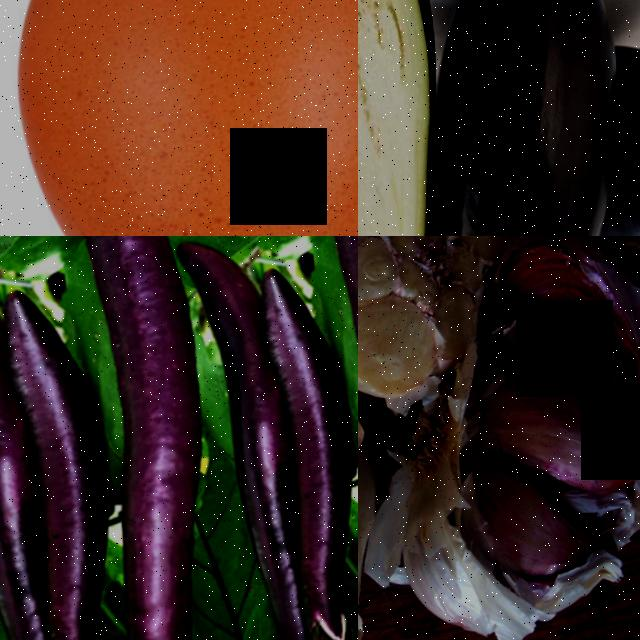egg_: (0, 0, 358, 236)
eggplant: (77, 236, 214, 640), (425, 0, 640, 236), (5, 283, 116, 640), (259, 277, 357, 640), (358, 0, 458, 236)
garlic: (476, 349, 631, 516), (495, 236, 632, 365), (468, 474, 595, 595)
